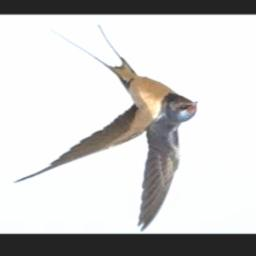Swallow: (11, 25, 198, 234)
